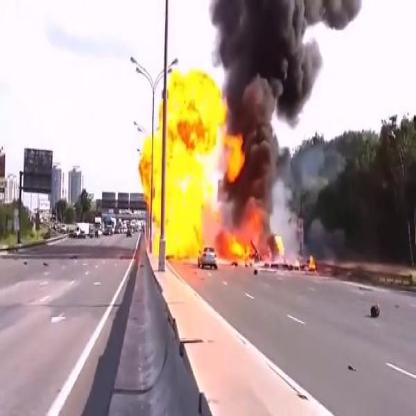fire: (138, 65, 245, 268), (274, 230, 287, 260), (307, 252, 316, 272)
